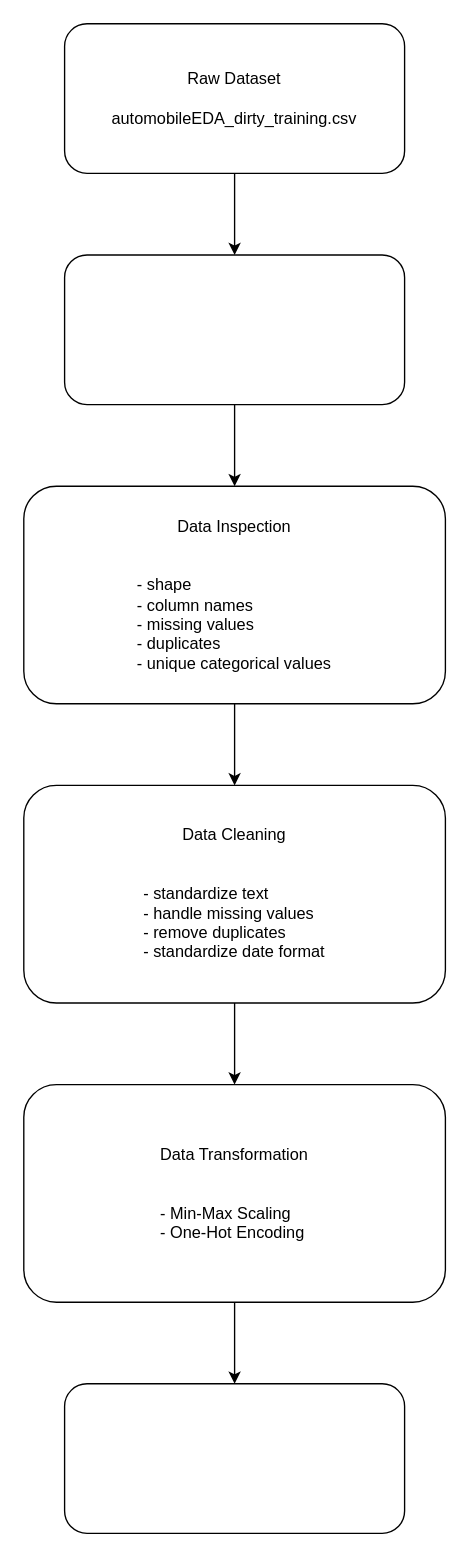
Image size: 469x1557. Some labels were removed from this diagram. Here are the shapes that lost their labels. From the top down, the centre of each, then its label:
the point at 234,329: Load Data pd.read_csv(...)
the point at 234,1457: Processed Dataset automobileEDA_processed.csv
